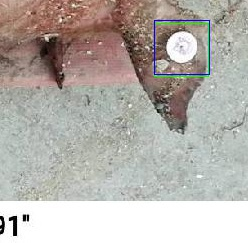text: (154, 23, 208, 76)
